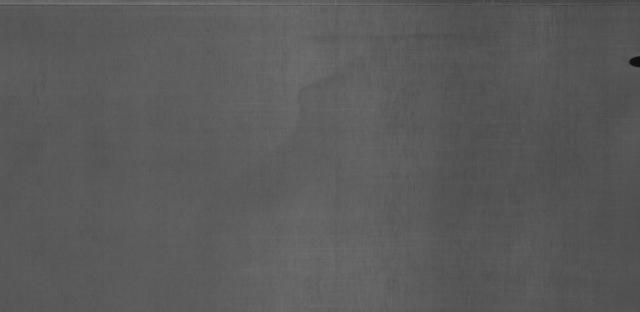punching_hole: (629, 52, 640, 67)
